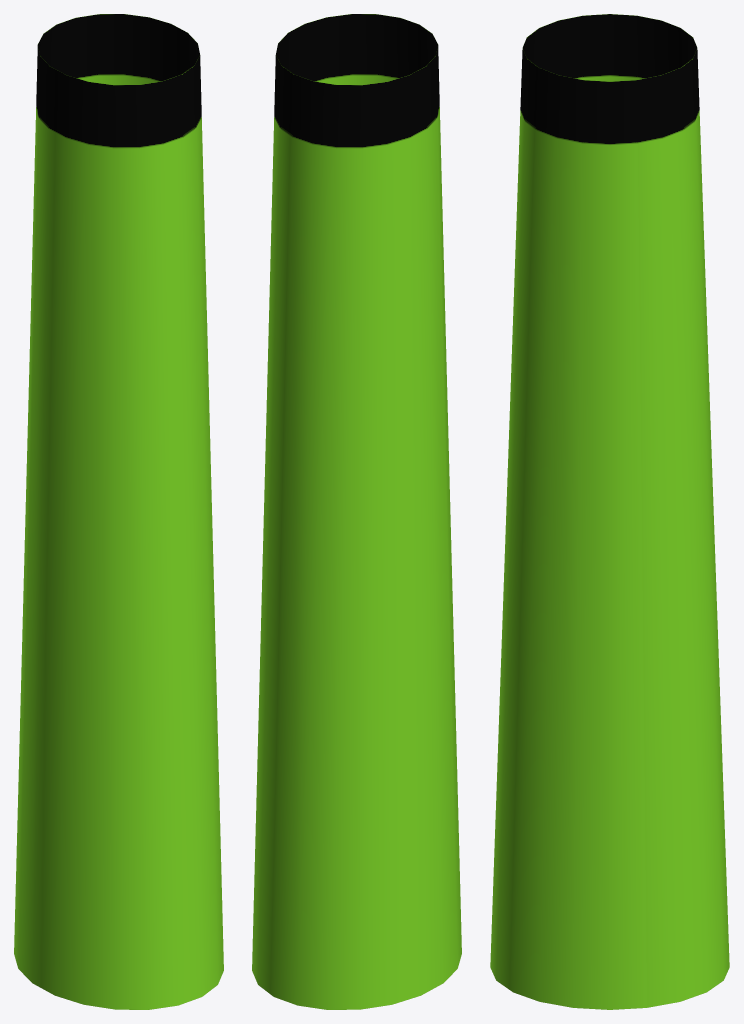
File: beam.fbx
3 renders of one model, left to right at view 1: azimuth 30°, elevation 25°; view 2: azimuth 150°, elevation 25°; view 3: azimuth 270°, elevation 25°, orthographic.
Visible parts, largest first — view 1: beam; view 2: beam; view 3: beam.
Part boxes in pixels (x1,y1,x2,y2): beam: [14, 14, 223, 1009]; beam: [252, 14, 461, 1009]; beam: [490, 14, 729, 1009].
Size of the model in its own units: 162 by 813 by 192.
Materials: 1 (1 with a texture image).
